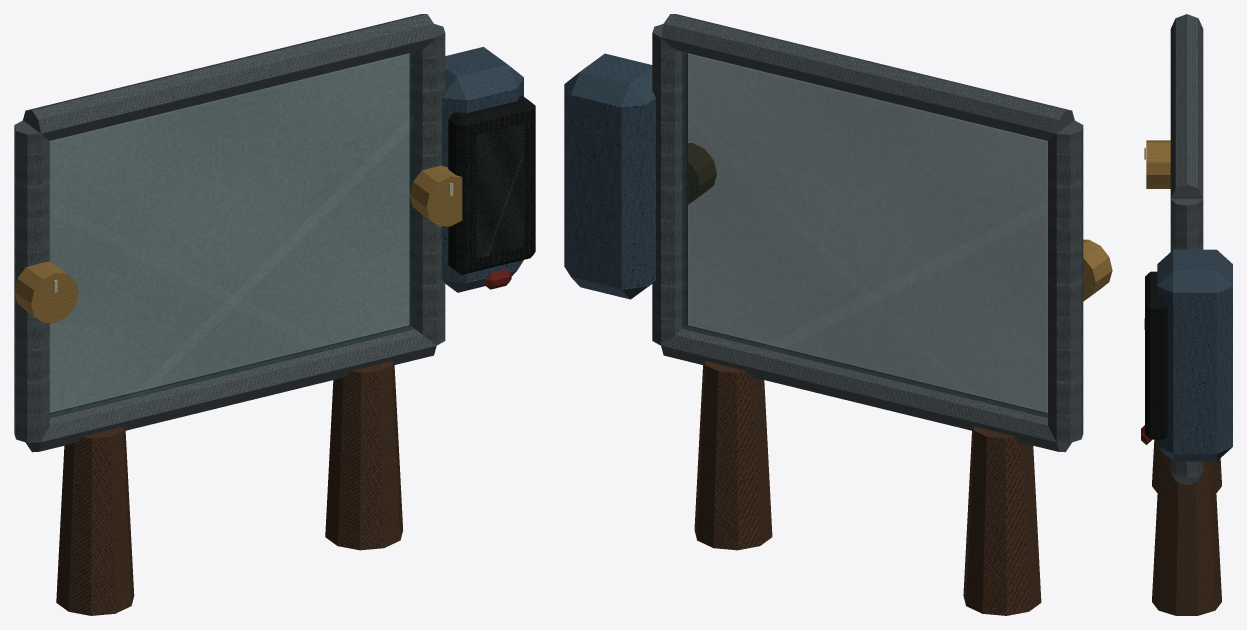
Rendered from blender_spectral_prism_3.glb.
The picture shows the model from 3 angles, left to right: view 1: azimuth 30°, elevation 25°; view 2: azimuth 150°, elevation 25°; view 3: azimuth 270°, elevation 25°; orthographic projection. The views are drawn at different scales.
Parts seen in each view (by area): view 1: blender_spectral_prism_3; view 2: blender_spectral_prism_3; view 3: blender_spectral_prism_3.
Part boxes in pixels (x1,y1,x2,y2): blender_spectral_prism_3: (14,14,535,615); blender_spectral_prism_3: (564,14,1112,615); blender_spectral_prism_3: (1141,14,1232,615).
Size of the model in its own units: 0.1915 by 0.1815 by 0.034.
Materials: 9 (9 with a texture image).
